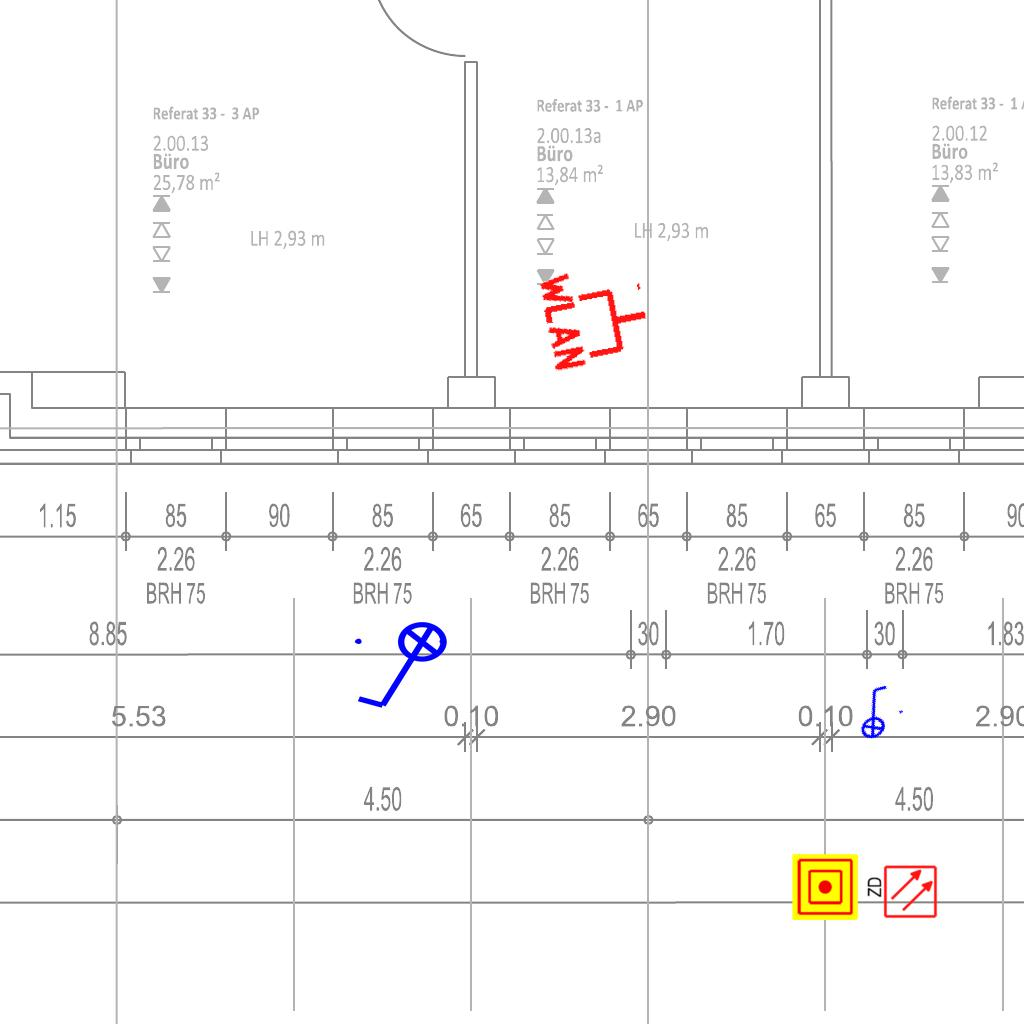Ausschalter_beleuchtet: (349, 620, 461, 716), (837, 677, 911, 747)
NAM-Nichtautomatischer_Melder: (792, 854, 858, 920)
WLAN: (535, 253, 658, 377)
ZD_Melder_in_Zwischendecke_mit_Revisionsoeffnung_mind_40_x_40_cm: (864, 864, 938, 921)
